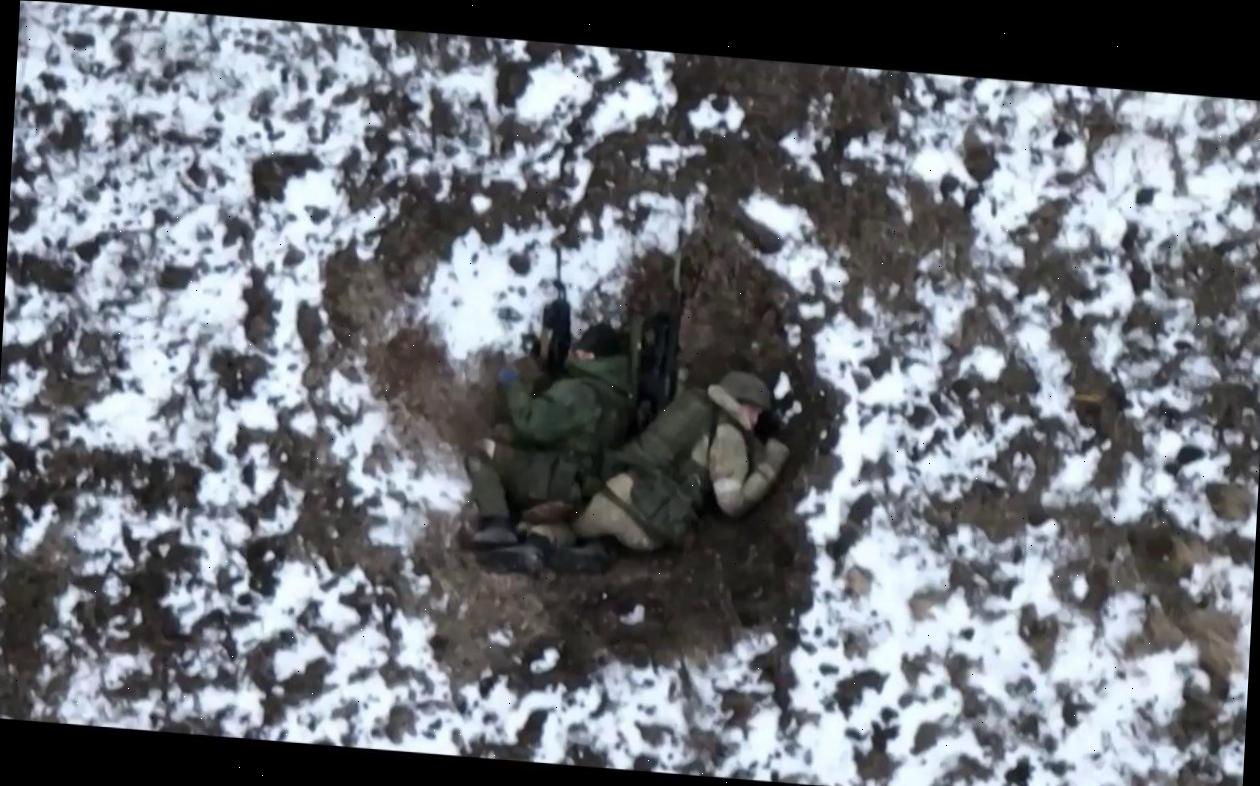person: (480, 353, 792, 600), (462, 241, 638, 563)
